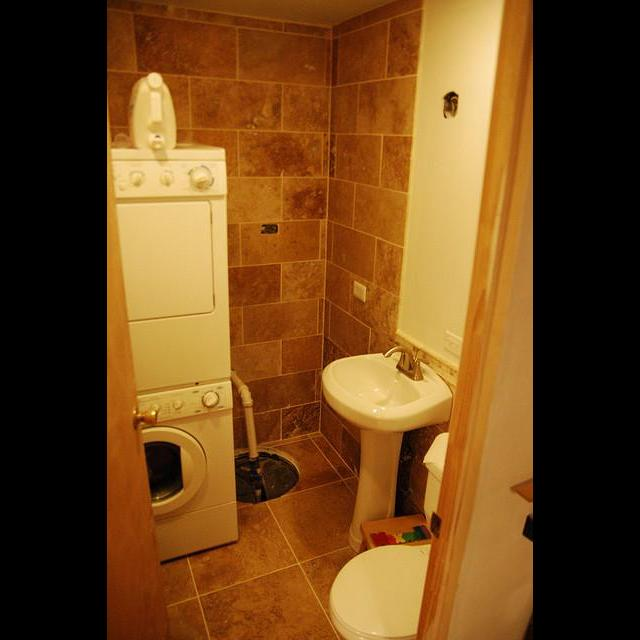Washing-Machine: (114, 143, 230, 384), (132, 382, 238, 554)
